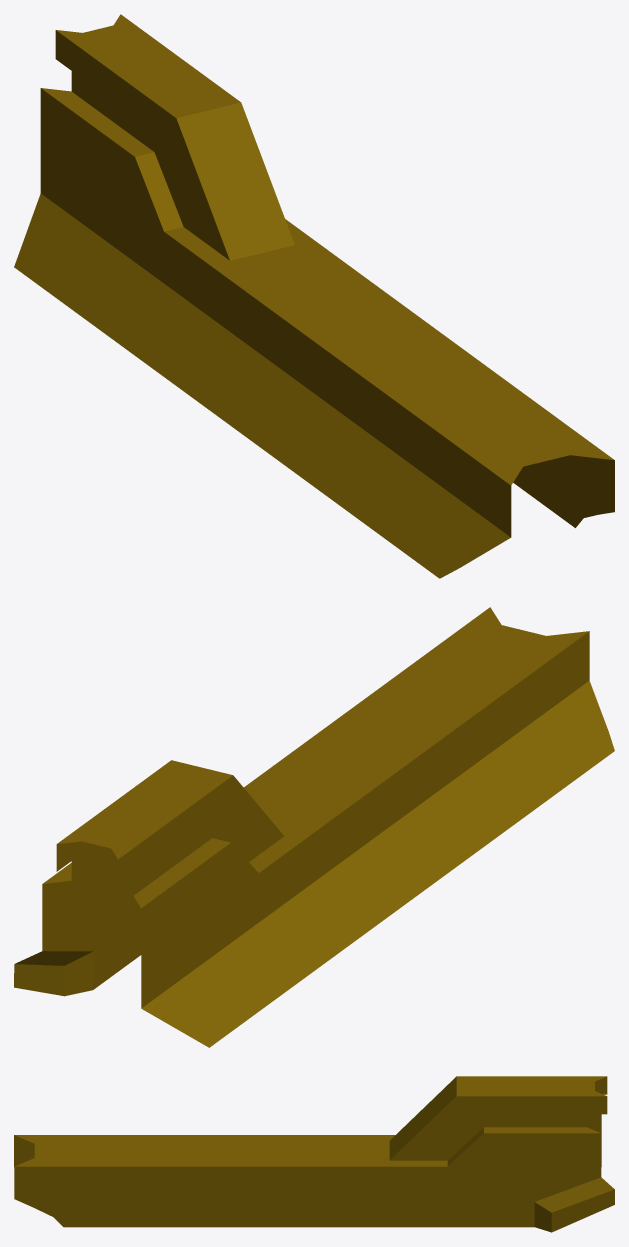
Rendered from mesh_BuildingA_WallCapBalcony_v2.fbx.
3 renders of one model, top to bottom at view 1: azimuth 30°, elevation 25°; view 2: azimuth 150°, elevation 25°; view 3: azimuth 270°, elevation 25°, orthographic. The views are drawn at different scales.
Visible parts, largest first — view 1: mesh_BuildingA_WallCapBalcony; view 2: mesh_BuildingA_WallCapBalcony; view 3: mesh_BuildingA_WallCapBalcony.
Boxes of the visible parts, <box> form: mesh_BuildingA_WallCapBalcony: <box>14,14,614,578</box>; mesh_BuildingA_WallCapBalcony: <box>14,607,614,1047</box>; mesh_BuildingA_WallCapBalcony: <box>14,1076,614,1232</box>.
Size of the model in its own units: 38.2 by 42.64 by 185.
